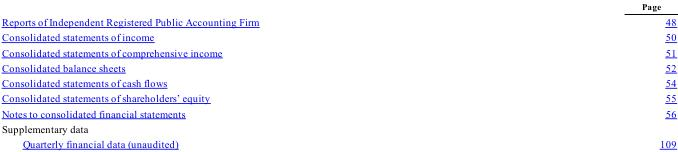table: (1, 1, 675, 149)
table column: (1, 1, 449, 149), (449, 1, 675, 149)
table column header: (1, 1, 675, 13)
table projected row header: (1, 120, 675, 135)
table row: (1, 13, 675, 29), (1, 74, 675, 90), (1, 29, 675, 44), (1, 44, 675, 59), (1, 59, 675, 74), (1, 90, 675, 105), (1, 105, 675, 120), (1, 120, 675, 135), (1, 135, 675, 149), (1, 1, 675, 13)
